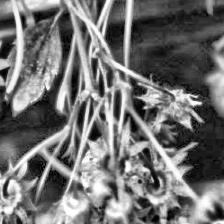Gray Mold: (132, 77, 204, 132)
